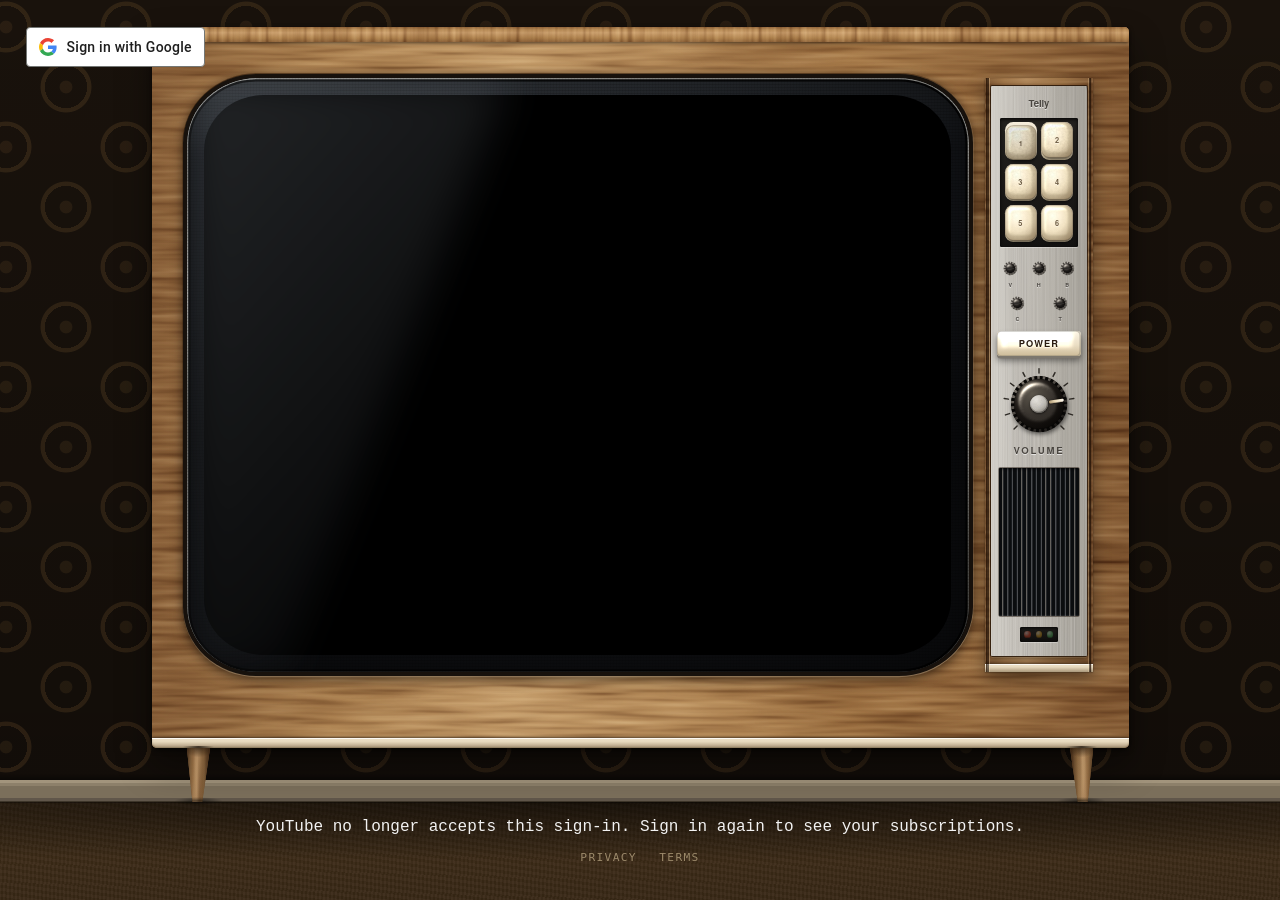
Channel › the Google session › clears the last session's load error when signing in again
Expected: the message shows "no longer accepts this sign-in", [256,818,1024,836]
Click the button "Sign in with Google" at coordinates (115, 47), box [26,27,205,67]
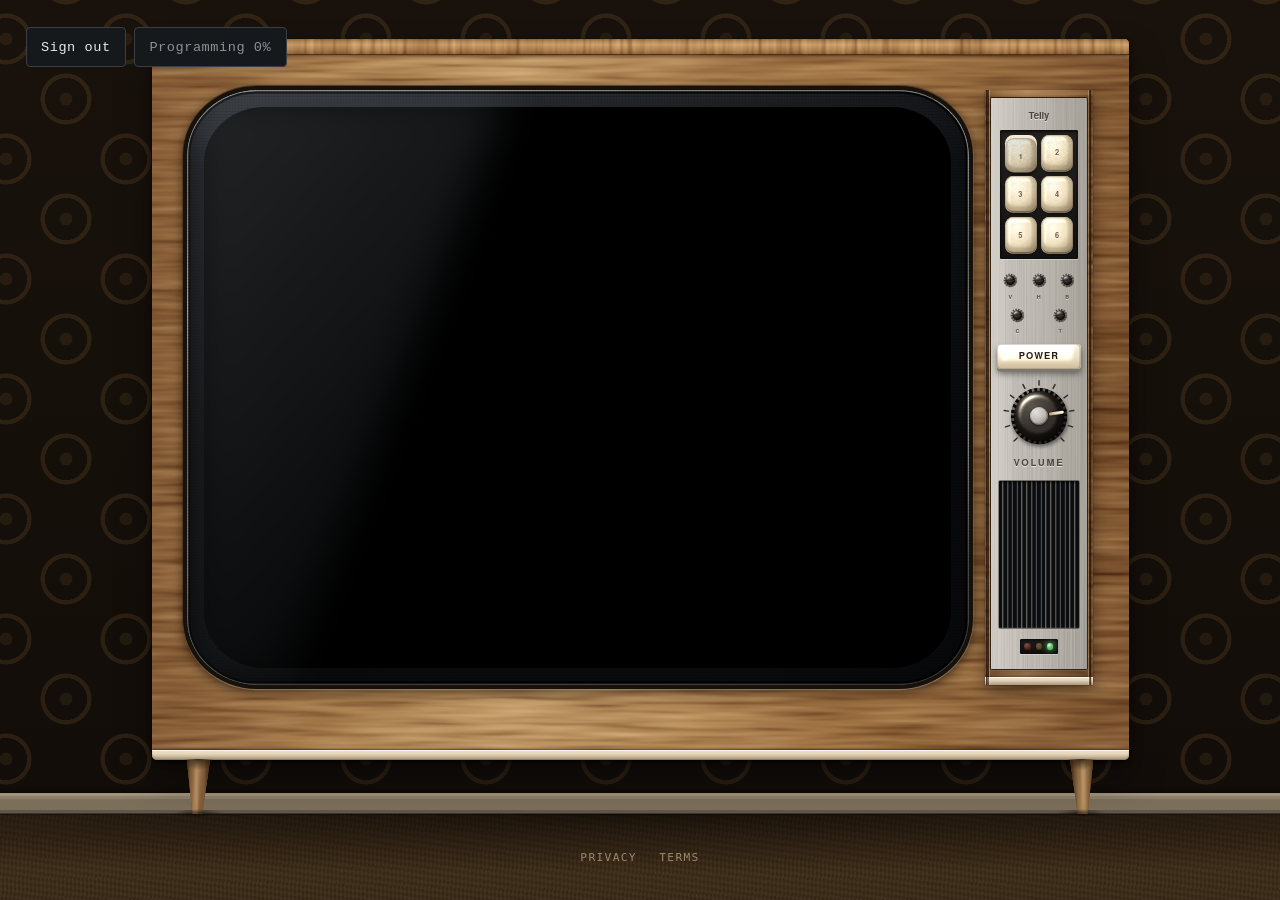
Expected: the message is gone
